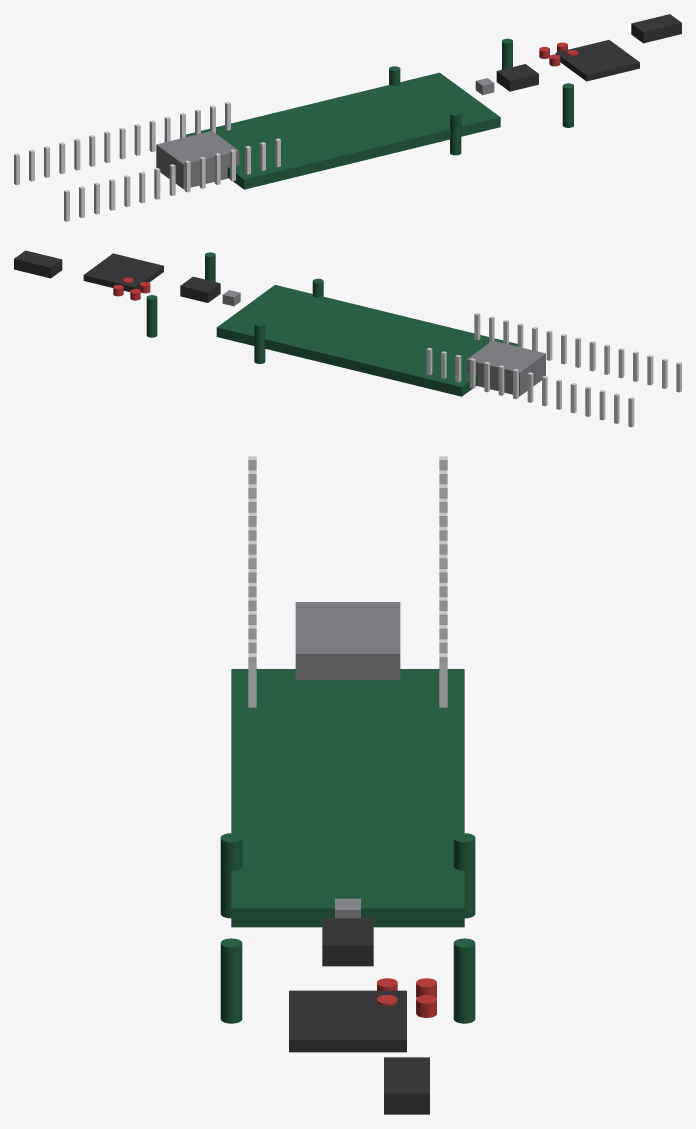
Rendered from nano-classic-v3.glb.
The picture shows the model from 3 angles, top to bottom: view 1: azimuth 30°, elevation 25°; view 2: azimuth 150°, elevation 25°; view 3: azimuth 270°, elevation 25°; orthographic projection. The views are drawn at different scales.
Visible parts, largest first — view 1: nano-classic-v3_pcb, nano-classic-v3_headers, nano-classic-v3_usb_mini_b, nano-classic-v3_mcu, nano-classic-v3_regulator, nano-classic-v3_usb_ic; view 2: nano-classic-v3_pcb, nano-classic-v3_headers, nano-classic-v3_usb_mini_b, nano-classic-v3_mcu, nano-classic-v3_regulator, nano-classic-v3_usb_ic; view 3: nano-classic-v3_pcb, nano-classic-v3_usb_mini_b, nano-classic-v3_mcu, nano-classic-v3_headers, nano-classic-v3_regulator, nano-classic-v3_usb_ic.
Boxes of the visible parts, left/top/right/bottom form: nano-classic-v3_pcb: left=186, top=38, right=573, bottom=189; nano-classic-v3_headers: left=14, top=102, right=280, bottom=221; nano-classic-v3_usb_mini_b: left=156, top=131, right=239, bottom=189; nano-classic-v3_mcu: left=555, top=40, right=639, bottom=81; nano-classic-v3_regulator: left=631, top=14, right=681, bottom=43; nano-classic-v3_usb_ic: left=496, top=64, right=538, bottom=91; nano-classic-v3_pcb: left=146, top=252, right=517, bottom=396; nano-classic-v3_headers: left=426, top=312, right=681, bottom=427; nano-classic-v3_usb_mini_b: left=466, top=340, right=545, bottom=396; nano-classic-v3_mcu: left=83, top=253, right=163, bottom=291; nano-classic-v3_regulator: left=14, top=250, right=62, bottom=278; nano-classic-v3_usb_ic: left=180, top=276, right=220, bottom=302; nano-classic-v3_pcb: left=220, top=669, right=475, bottom=1023; nano-classic-v3_usb_mini_b: left=295, top=602, right=400, bottom=680; nano-classic-v3_mcu: left=289, top=990, right=406, bottom=1052; nano-classic-v3_headers: left=248, top=456, right=447, bottom=707; nano-classic-v3_regulator: left=384, top=1057, right=429, bottom=1114; nano-classic-v3_usb_ic: left=322, top=918, right=373, bottom=966.
Size of the model in its own units: 0.1097 by 0.00827 by 0.0194.
